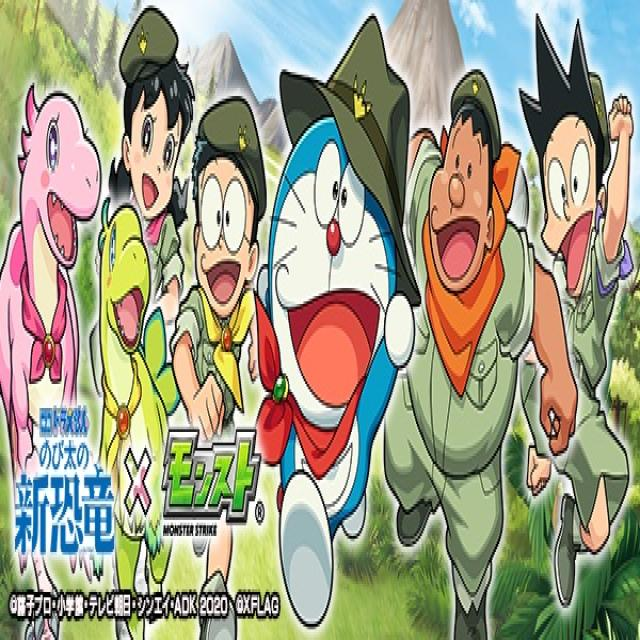doraemon: (253, 90, 407, 498)
jaian: (422, 78, 516, 358)
nobita: (184, 118, 274, 358)
shizuka: (99, 32, 210, 259)
suneo: (508, 5, 634, 371)
